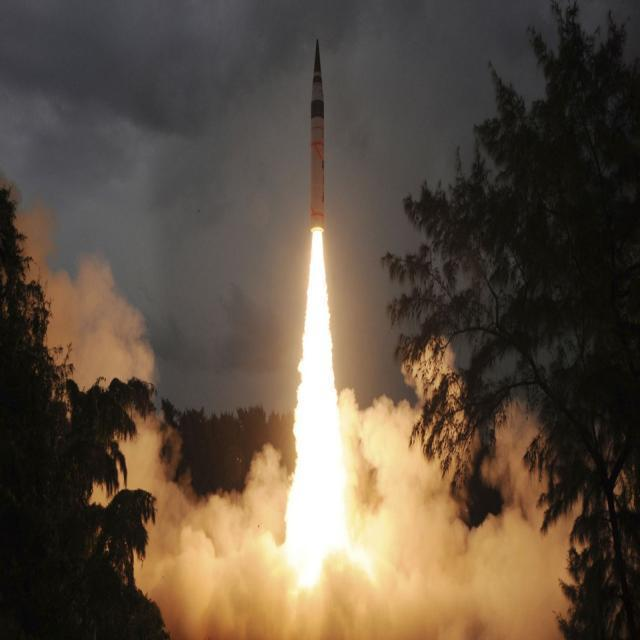missile: (302, 33, 332, 236)
